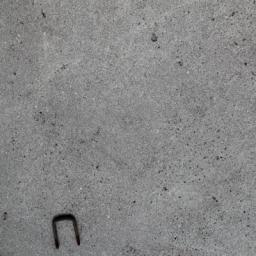FOD: (49, 212, 86, 251)
